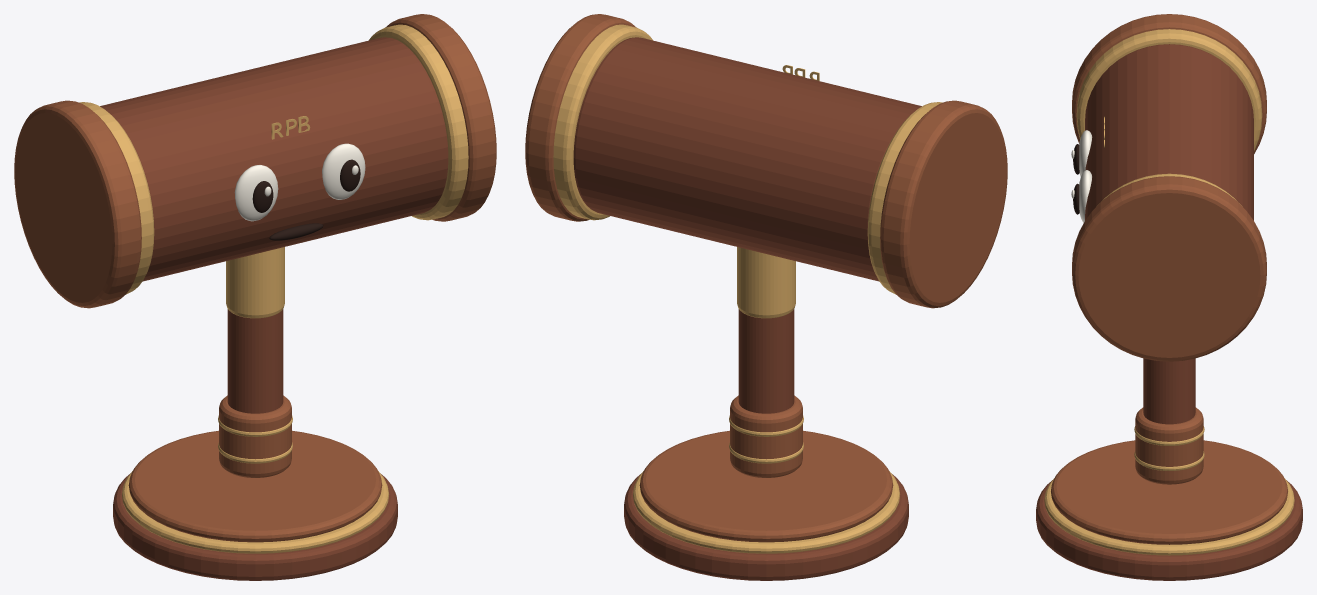
The model's file is blueprint.glb.
3 views of the same model, side by side, from view 1: azimuth 30°, elevation 25°; view 2: azimuth 150°, elevation 25°; view 3: azimuth 270°, elevation 25° (orthographic). The views are drawn at different scales.
Visible parts, largest first — view 1: Mahogany gavel head, Wood striking face, Sounding block top, Sounding block foot, Wood striking face.001, Mahogany handle, Brass collar, Handle grip, Sounding block gold trim, Handle neck, Brass collar.001, Expressive eye (+1 smaller); view 2: Mahogany gavel head, Wood striking face, Sounding block top, Sounding block foot, Wood striking face.001, Mahogany handle, Brass collar, Handle grip, Sounding block gold trim, Handle neck, Brass collar.001; view 3: Wood striking face.001, Mahogany gavel head, Sounding block top, Sounding block foot, Brass collar.001, Wood striking face, Handle grip, Sounding block gold trim, Mahogany handle, Expressive eye, Expressive eye.001, Brass collar (+2 smaller).
Part boxes in pixels (x1,y1,x2,y2): Mahogany gavel head: (100,37,448,281); Wood striking face: (14,100,141,308); Sounding block top: (128,430,382,542); Sounding block foot: (113,473,397,580); Wood striking face.001: (385,14,496,221); Mahogany handle: (227,309,283,413); Brass collar: (369,24,468,220); Handle grip: (219,395,291,477); Sounding block gold trim: (122,471,388,553); Handle neck: (226,247,284,318); Brass collar.001: (79,102,154,294); Expressive eye: (322,143,365,199); Mahogany gavel head: (573,37,921,281); Wood striking face: (880,100,1007,308); Sounding block top: (639,430,893,542); Sounding block foot: (624,473,908,580); Wood striking face.001: (525,14,636,221); Mahogany handle: (738,309,794,413); Brass collar: (553,24,652,220); Handle grip: (730,395,802,477); Sounding block gold trim: (633,471,899,553); Handle neck: (737,247,795,318); Brass collar.001: (867,102,942,294); Wood striking face.001: (1072,176,1266,361); Mahogany gavel head: (1085,44,1253,220); Sounding block top: (1051,440,1287,544); Sounding block foot: (1036,480,1302,580); Brass collar.001: (1076,29,1262,150); Wood striking face: (1072,14,1266,153); Handle grip: (1135,407,1203,484); Sounding block gold trim: (1044,478,1294,555); Mahogany handle: (1143,358,1195,424); Expressive eye: (1079,170,1091,222); Expressive eye.001: (1079,130,1092,176); Brass collar: (1096,173,1242,206).
Bounding box in the file's own units: 2.55 × 2.9 × 1.64.
